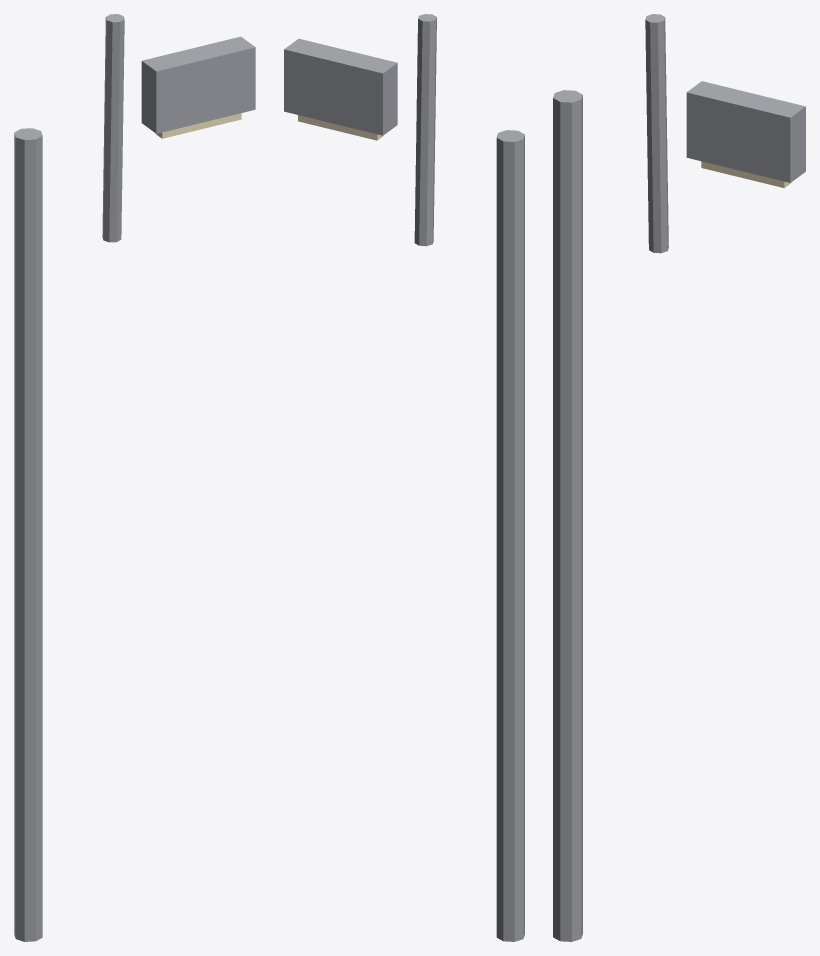
Rendered from street_lamp.glb.
The picture shows the model from 3 angles, left to right: view 1: azimuth 30°, elevation 25°; view 2: azimuth 150°, elevation 25°; view 3: azimuth 330°, elevation 25°; orthographic projection. The views are drawn at different scales.
Parts seen in each view (by area): view 1: Post, Head, Arm, Glow; view 2: Post, Head, Arm, Glow; view 3: Post, Head, Arm, Glow.
Part boxes in pixels (<box>): Post: <box>14,128,42,941</box>; Head: <box>141,36,255,133</box>; Arm: <box>102,14,124,242</box>; Glow: <box>155,113,241,138</box>; Post: <box>496,130,524,941</box>; Head: <box>284,38,397,135</box>; Arm: <box>414,14,436,246</box>; Glow: <box>298,115,383,140</box>; Post: <box>553,90,582,941</box>; Head: <box>686,81,805,182</box>; Arm: <box>645,14,668,253</box>; Glow: <box>701,161,790,187</box>.
Bounding box in the file's own units: 1.64 × 6.05 × 0.18.
